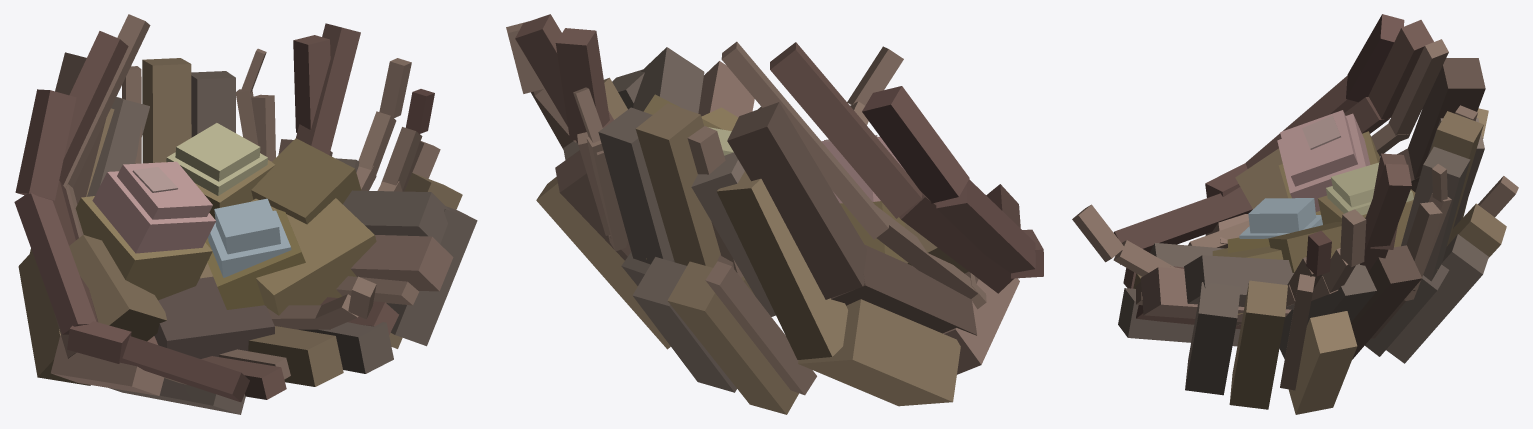
Rendered from bird_nest.glb.
3 renders of one model, left to right at view 1: azimuth 30°, elevation 25°; view 2: azimuth 150°, elevation 25°; view 3: azimuth 270°, elevation 25°, orthographic. The views are drawn at different scales.
Visible parts, largest first — view 1: Bird Nest; view 2: Bird Nest; view 3: Bird Nest.
Part boxes in pixels (x1,y1,x2,y2): Bird Nest: (14, 14, 477, 414); Bird Nest: (506, 14, 1043, 414); Bird Nest: (1072, 14, 1518, 414).
Bounding box in the file's own units: 143 × 110 × 140.
